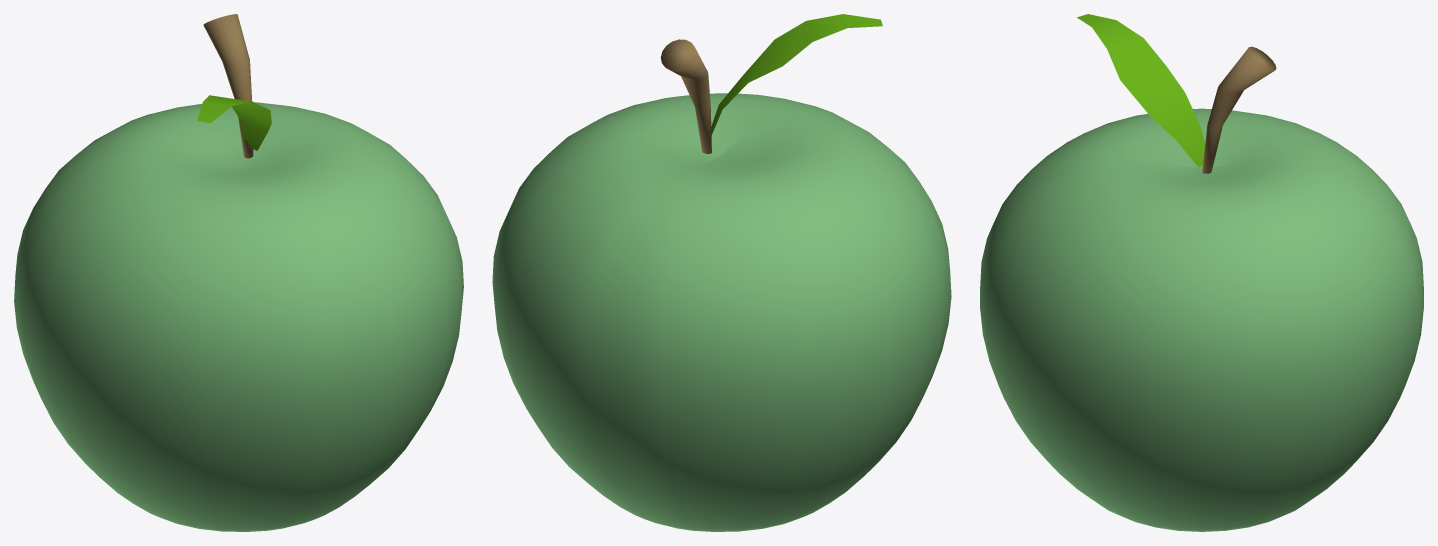
Rendered from apple_grannysmith.fbx.
3 views of the same model, side by side, from view 1: azimuth 30°, elevation 25°; view 2: azimuth 150°, elevation 25°; view 3: azimuth 270°, elevation 25° (orthographic). The views are drawn at different scales.
Visible parts, largest first — view 1: apple_grannysmith, apple_grannysmith_stem, apple_grannysmith_leaf; view 2: apple_grannysmith, apple_grannysmith_leaf, apple_grannysmith_stem; view 3: apple_grannysmith, apple_grannysmith_leaf, apple_grannysmith_stem.
Part boxes in pixels (left/top/right/bottom): apple_grannysmith: left=14, top=102, right=463, bottom=531; apple_grannysmith_stem: left=203, top=14, right=253, bottom=158; apple_grannysmith_leaf: left=197, top=95, right=271, bottom=150; apple_grannysmith: left=492, top=93, right=951, bottom=531; apple_grannysmith_leaf: left=711, top=14, right=882, bottom=134; apple_grannysmith_stem: left=660, top=39, right=711, bottom=153; apple_grannysmith: left=980, top=108, right=1423, bottom=531; apple_grannysmith_leaf: left=1077, top=14, right=1205, bottom=167; apple_grannysmith_stem: left=1202, top=46, right=1276, bottom=173.
Bounding box in the file's own units: 0.3958 × 0.4406 × 0.3957.
